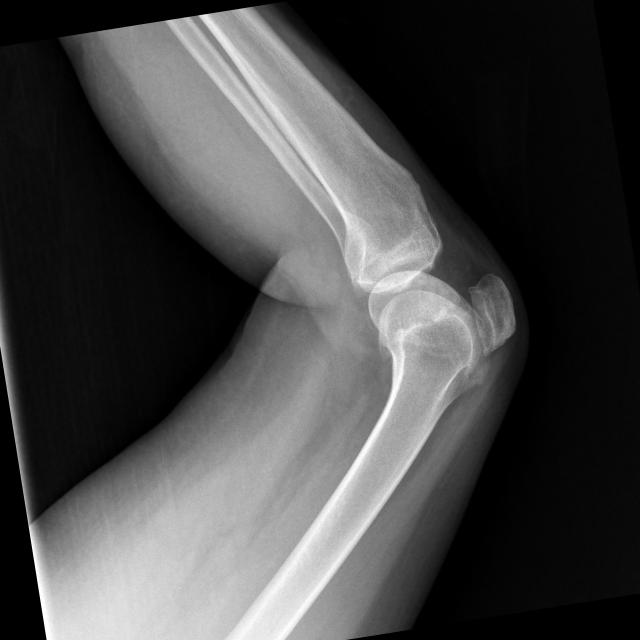Knee: (338, 216, 527, 408)
